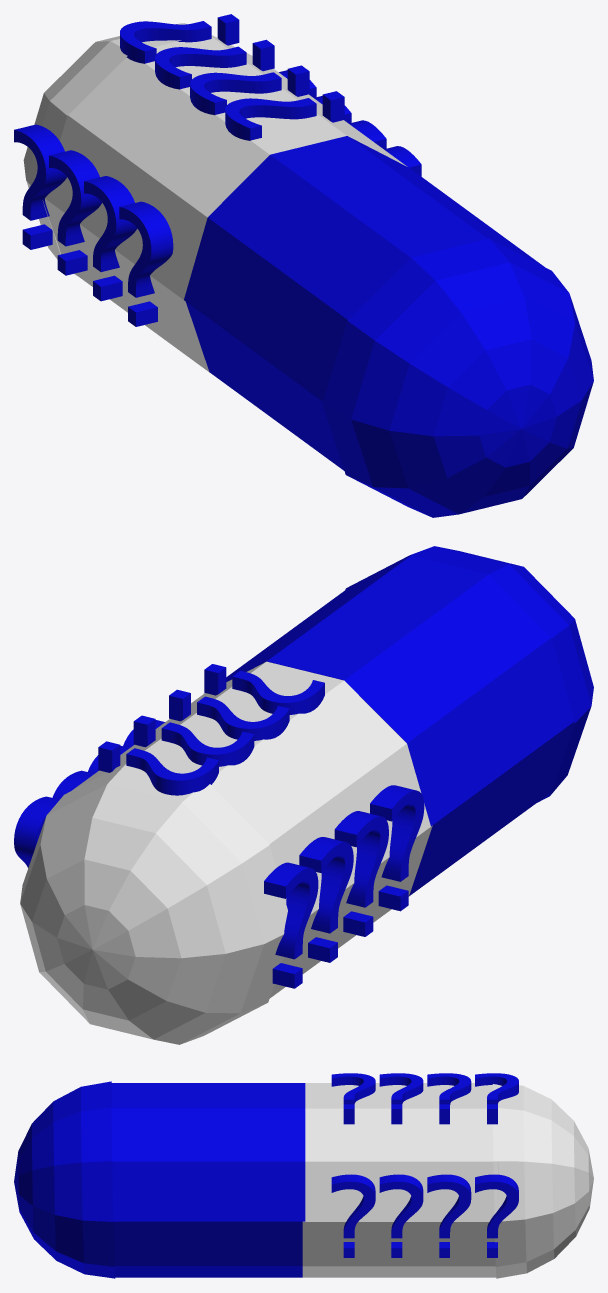
Rendered from mysteryBoxAllObj.fbx.
3 views of the same model, one above another, from view 1: azimuth 30°, elevation 25°; view 2: azimuth 150°, elevation 25°; view 3: azimuth 270°, elevation 25° (orthographic). The views are drawn at different scales.
Parts seen in each view (by area): view 1: mysteryBoxAllObj; view 2: mysteryBoxAllObj; view 3: mysteryBoxAllObj.
Boxes of the visible parts, x1,y1,x2,y2 form: mysteryBoxAllObj: (14,14,593,517); mysteryBoxAllObj: (14,546,593,1044); mysteryBoxAllObj: (14,1073,593,1278).
Bounding box in the file's own units: 2.2 × 2.03 × 5.99.
